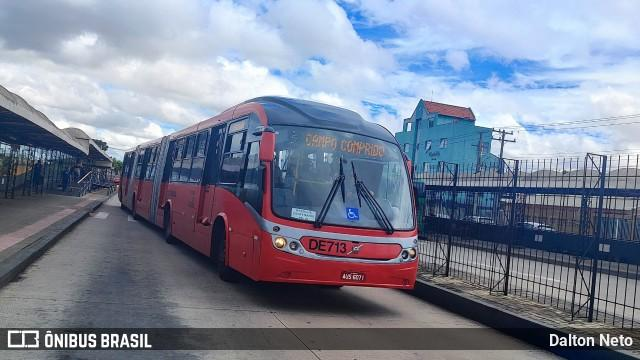CAMPO COMPRIDO: (301, 128, 388, 160)
